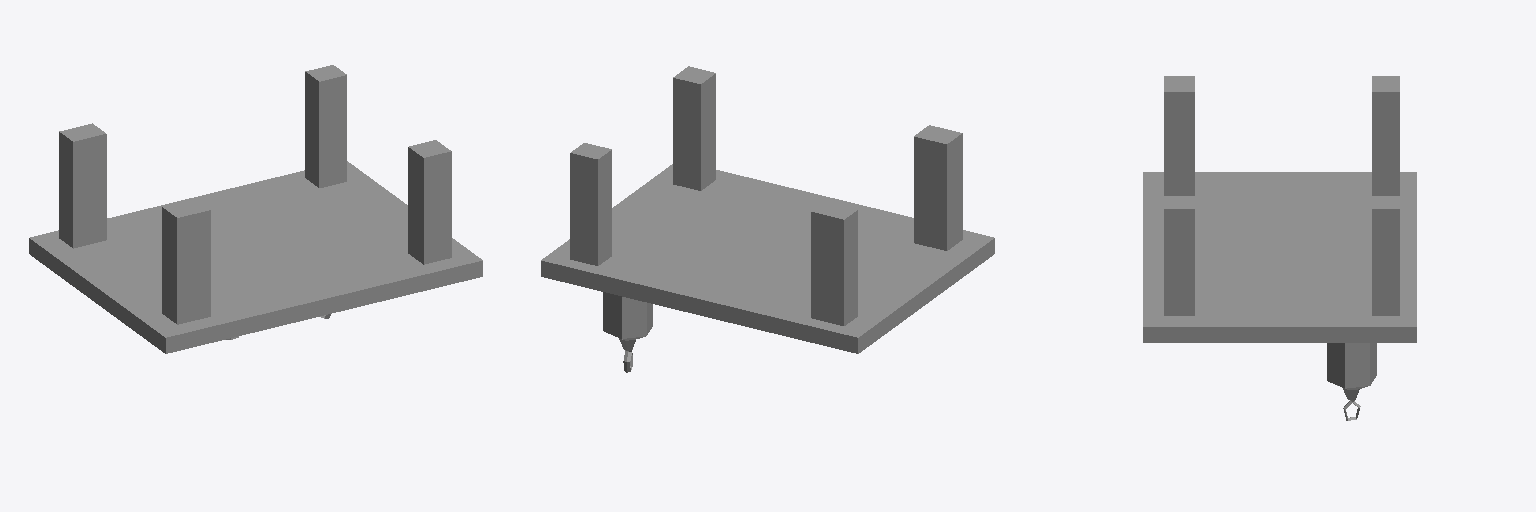
Rendered from table_00.obj.
3 views of the same model, side by side, from view 1: azimuth 30°, elevation 25°; view 2: azimuth 150°, elevation 25°; view 3: azimuth 270°, elevation 25° (orthographic).
Parts seen in each view (by area): view 1: Cube.001; view 2: Cube.001; view 3: Cube.001.
Boxes of the visible parts, x1=… form: Cube.001: x1=29, y1=65, x2=482, y2=353; Cube.001: x1=541, y1=66, x2=994, y2=372; Cube.001: x1=1143, y1=76, x2=1416, y2=420.
Bounding box in the file's own units: 52.45 × 35.89 × 39.16.